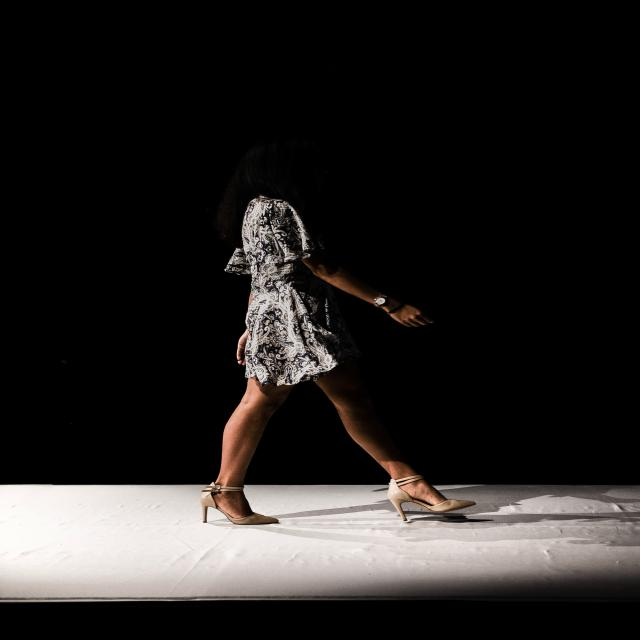adult: (196, 138, 474, 524)
